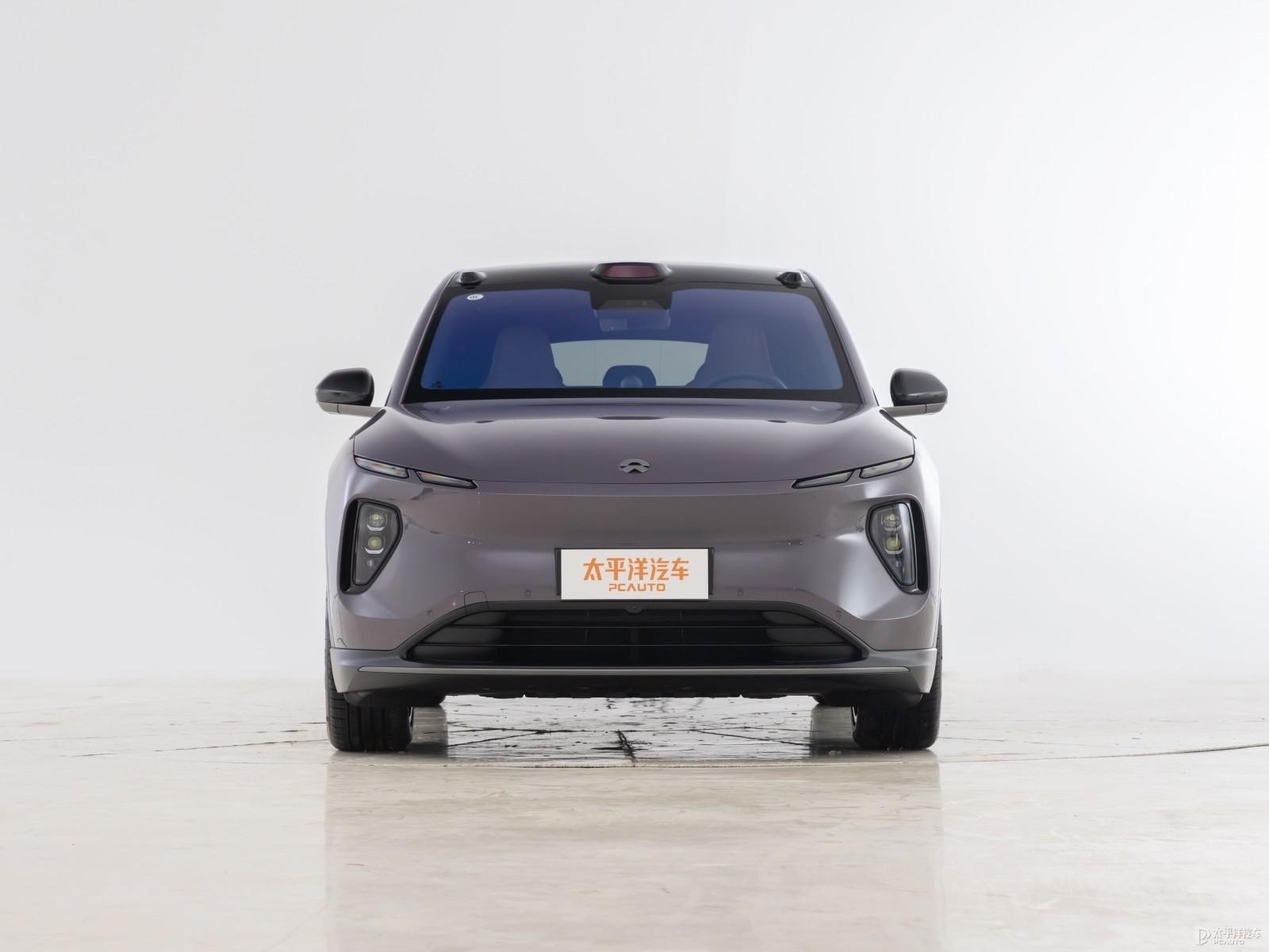NIO: (619, 459, 650, 473)
